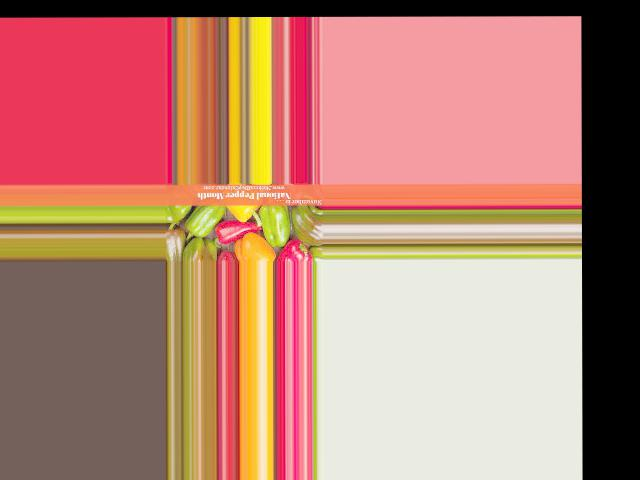bell_pepper: (291, 205, 322, 245)
